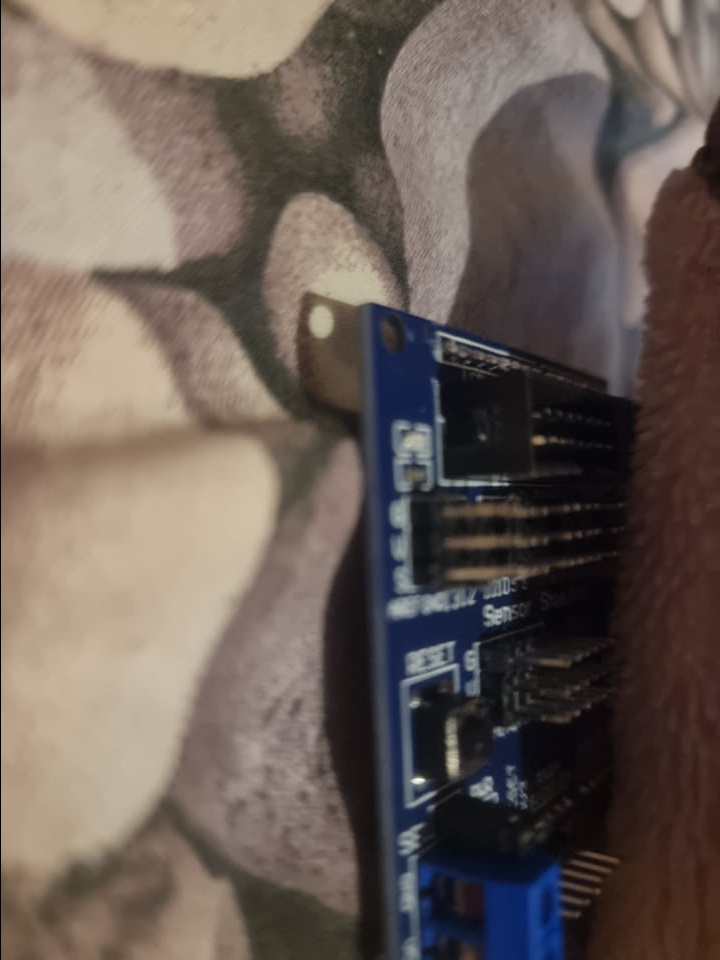5V EXPANSION: (358, 303, 648, 957)
